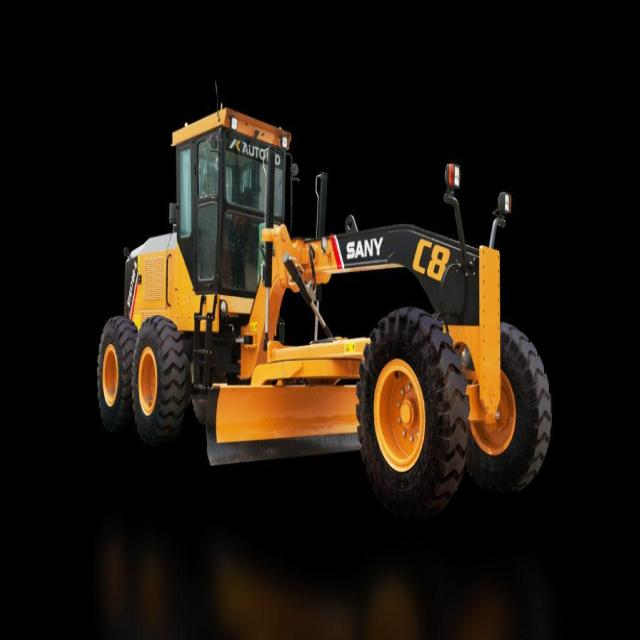buldozerpayloadergrader: (89, 106, 574, 514)
